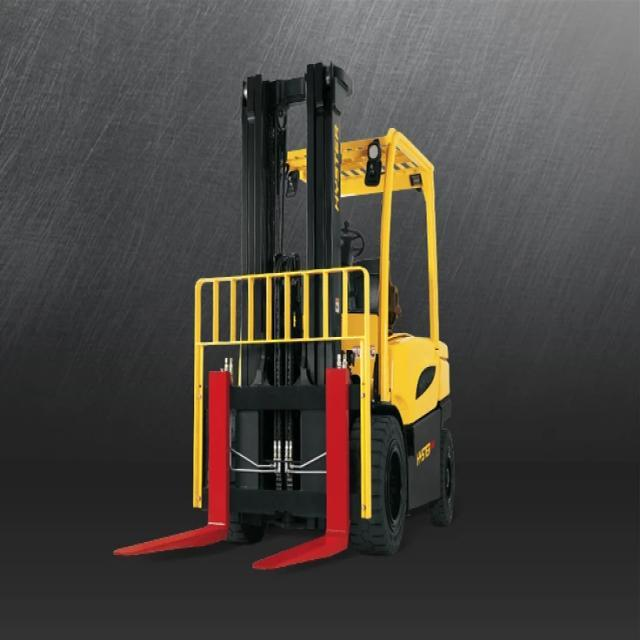forklift: (167, 44, 476, 570)
